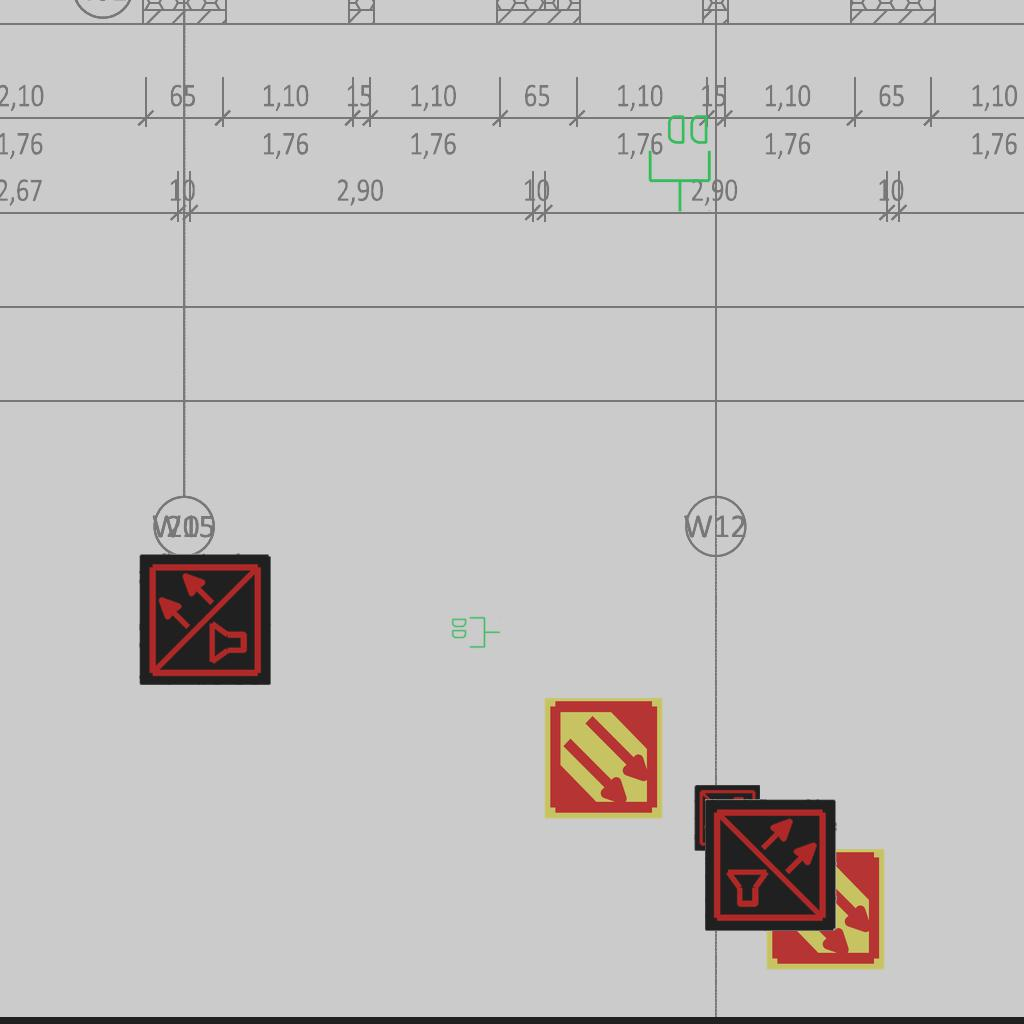ASR_Ansaugrauchmelder: (763, 847, 888, 972), (541, 696, 666, 821)
Datenanschluss_zweifach: (646, 111, 715, 214), (450, 615, 501, 649)
OKW_Multisensormelder_(Kombination_optischer_Rauch-Kahlenmonoxid_Waerme-Melder): (139, 553, 271, 685), (705, 799, 837, 931), (694, 785, 760, 851)
